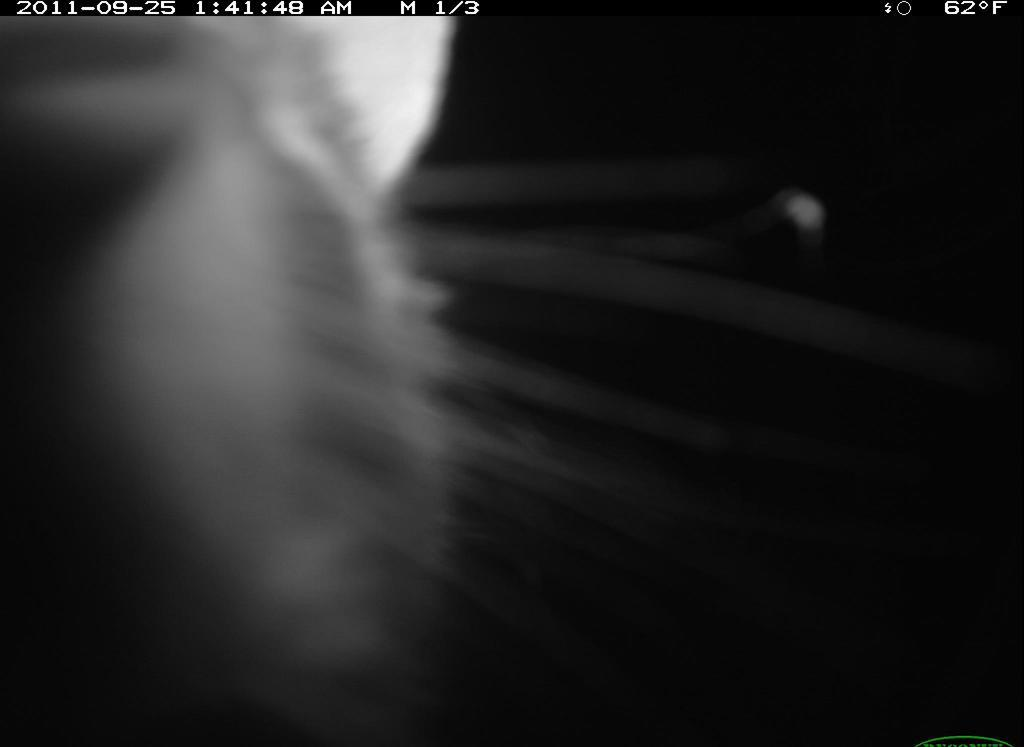raccoon: (3, 15, 607, 745)
